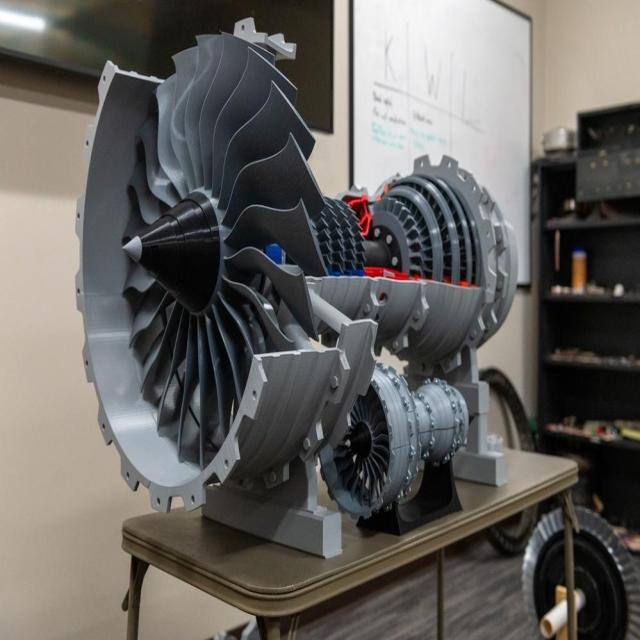Without deffect: (57, 30, 533, 573)
